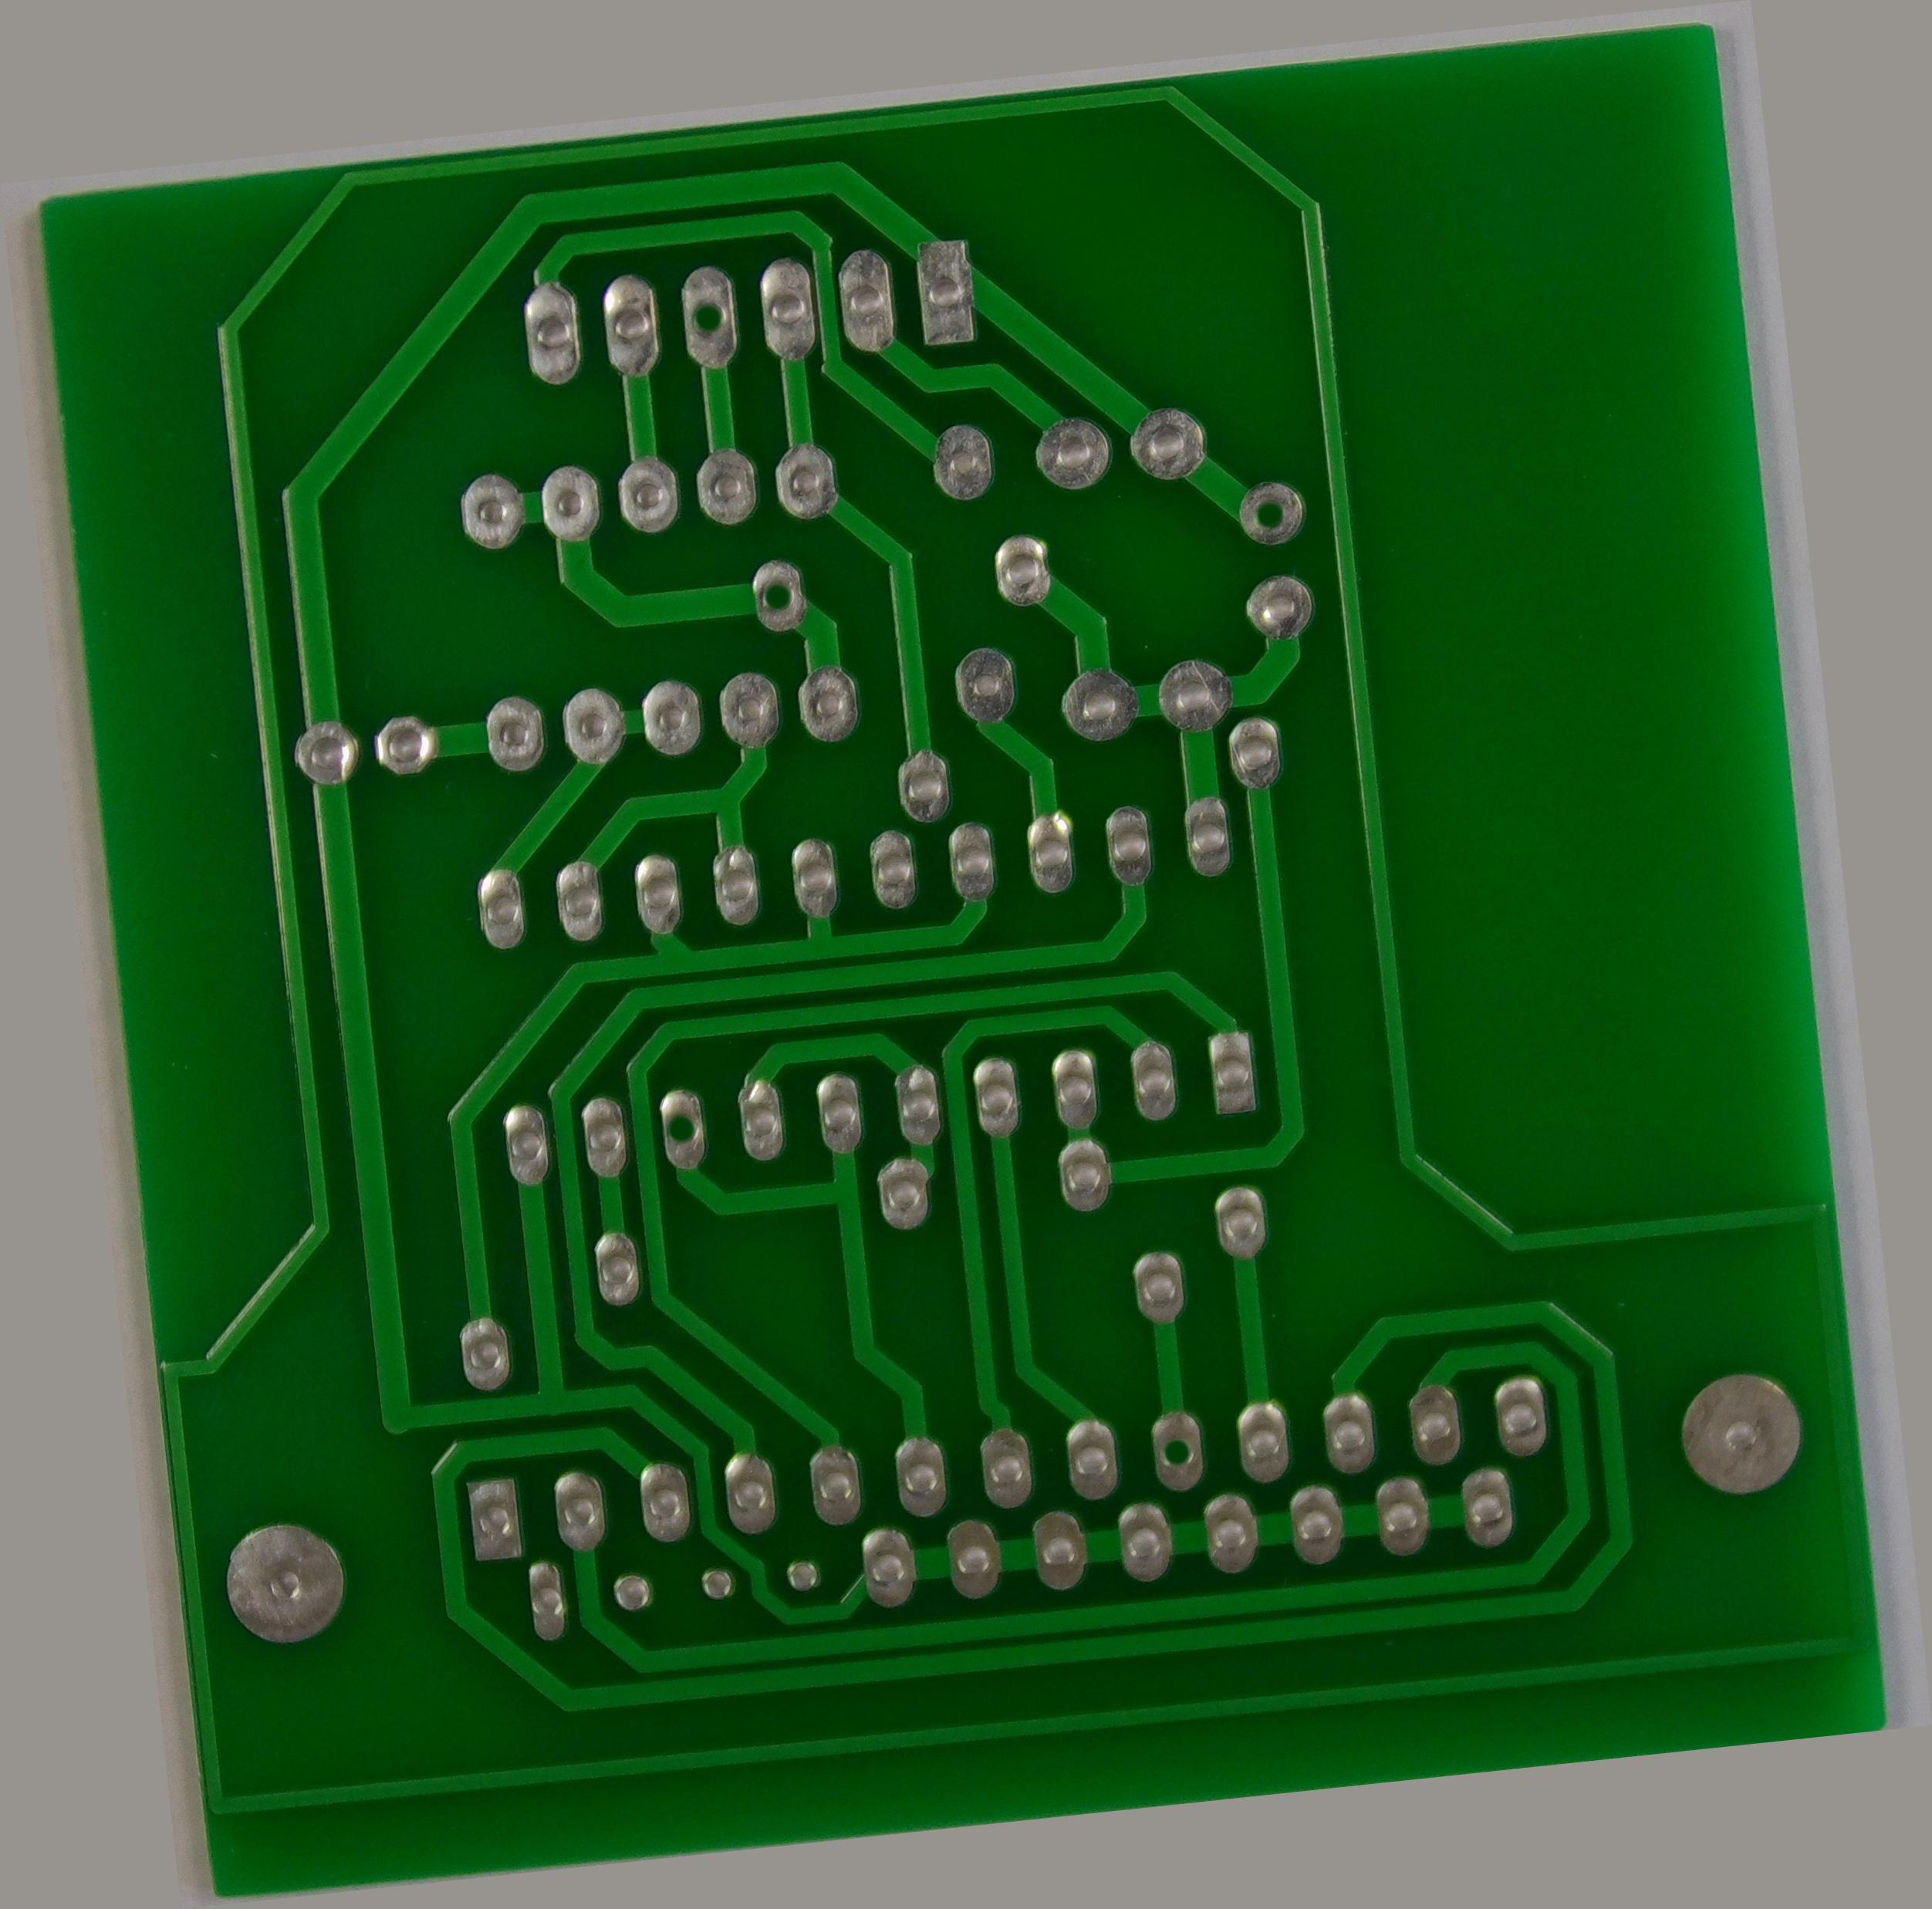missing_hole: (1310, 469, 1385, 540), (1102, 1484, 1175, 1556), (724, 189, 792, 266), (601, 1073, 671, 1145), (771, 503, 832, 570)
